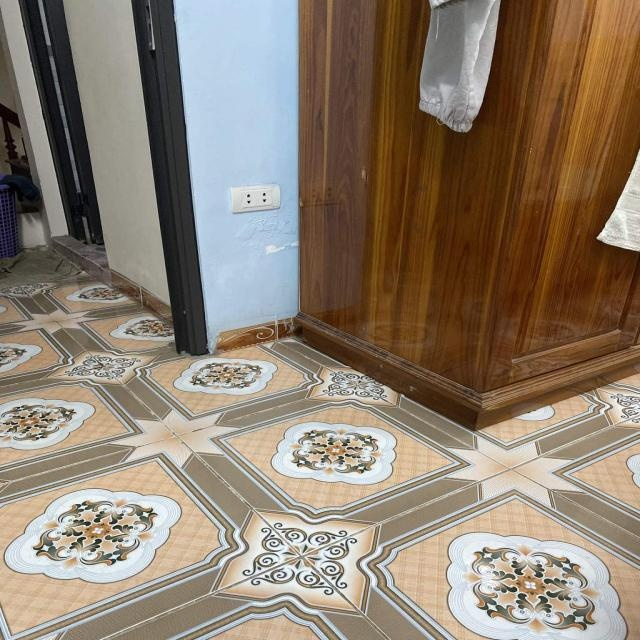outlet: (230, 184, 281, 213)
